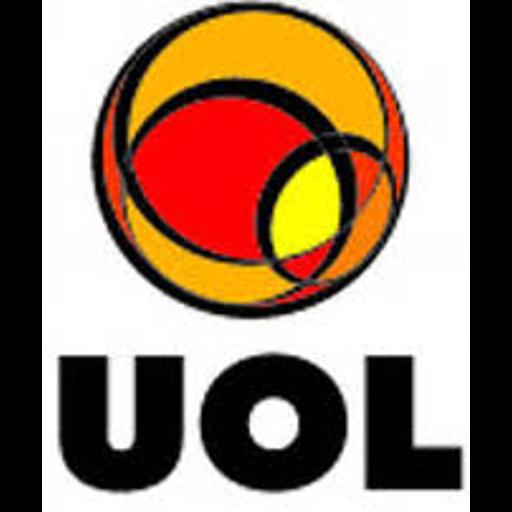Universo Online: (42, 0, 470, 512)
